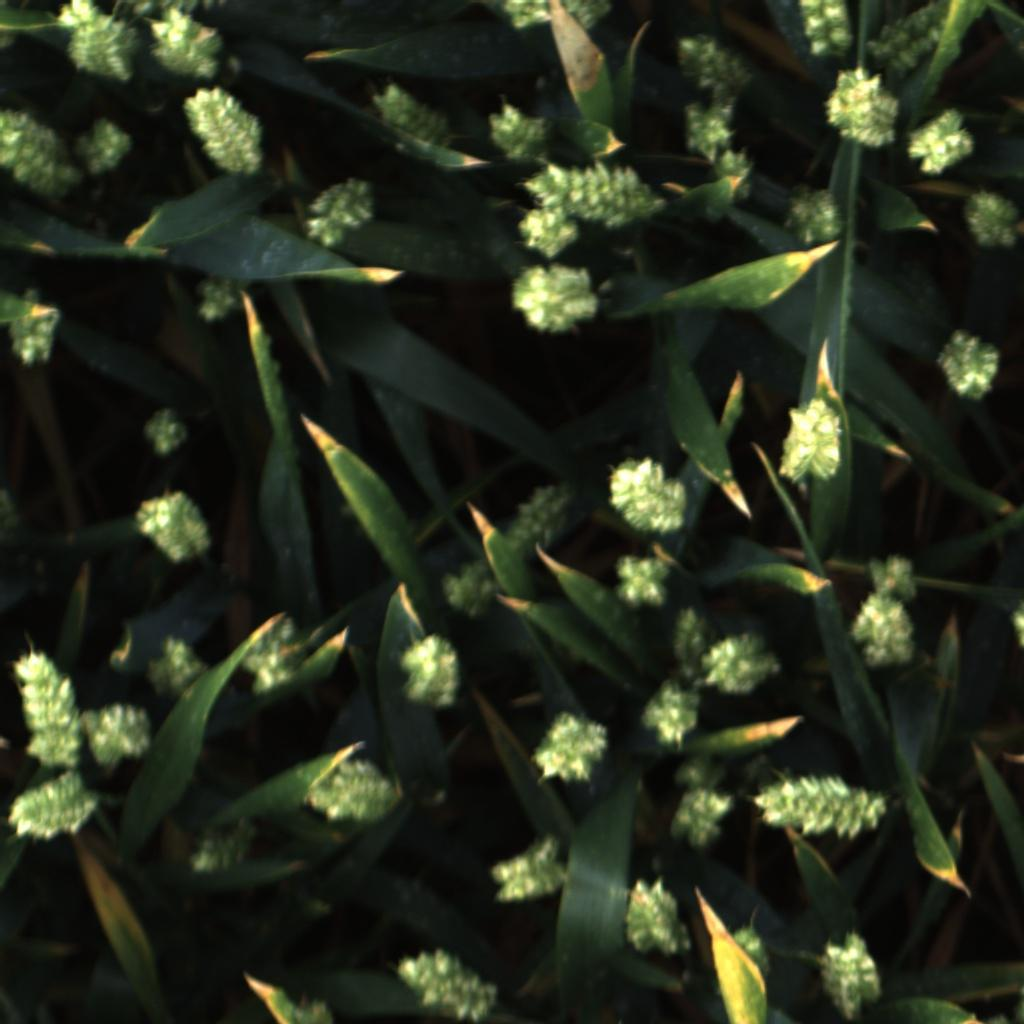0-0: (748, 768, 892, 846), (521, 155, 667, 231), (869, 1, 997, 83), (180, 84, 277, 182), (13, 643, 84, 770), (394, 942, 503, 1024), (0, 101, 80, 201), (812, 929, 894, 1022), (6, 772, 99, 853), (305, 754, 405, 829), (530, 705, 616, 789), (606, 452, 691, 536), (370, 78, 456, 161), (773, 395, 848, 490), (510, 260, 602, 335), (822, 65, 903, 150), (47, 0, 133, 79), (141, 6, 234, 79), (619, 876, 696, 964), (131, 486, 213, 568), (842, 589, 918, 673), (489, 833, 569, 911), (74, 699, 159, 772), (393, 629, 469, 710), (702, 626, 786, 698), (178, 813, 259, 885), (931, 326, 1002, 406), (906, 106, 979, 182), (677, 32, 754, 103), (143, 629, 217, 702), (637, 674, 706, 752), (305, 172, 375, 248), (506, 480, 579, 552), (237, 615, 301, 696), (665, 781, 738, 851), (781, 178, 853, 247), (511, 203, 581, 267), (8, 288, 62, 370), (791, 1, 864, 61), (857, 551, 930, 611), (958, 186, 1024, 252), (678, 94, 738, 165), (664, 602, 714, 687), (73, 110, 137, 176), (488, 100, 552, 164), (607, 553, 680, 608), (438, 560, 502, 620), (726, 915, 775, 986), (138, 404, 198, 458), (194, 272, 244, 323), (711, 147, 754, 202), (498, 0, 552, 34), (127, 0, 229, 18), (561, 0, 612, 33)
